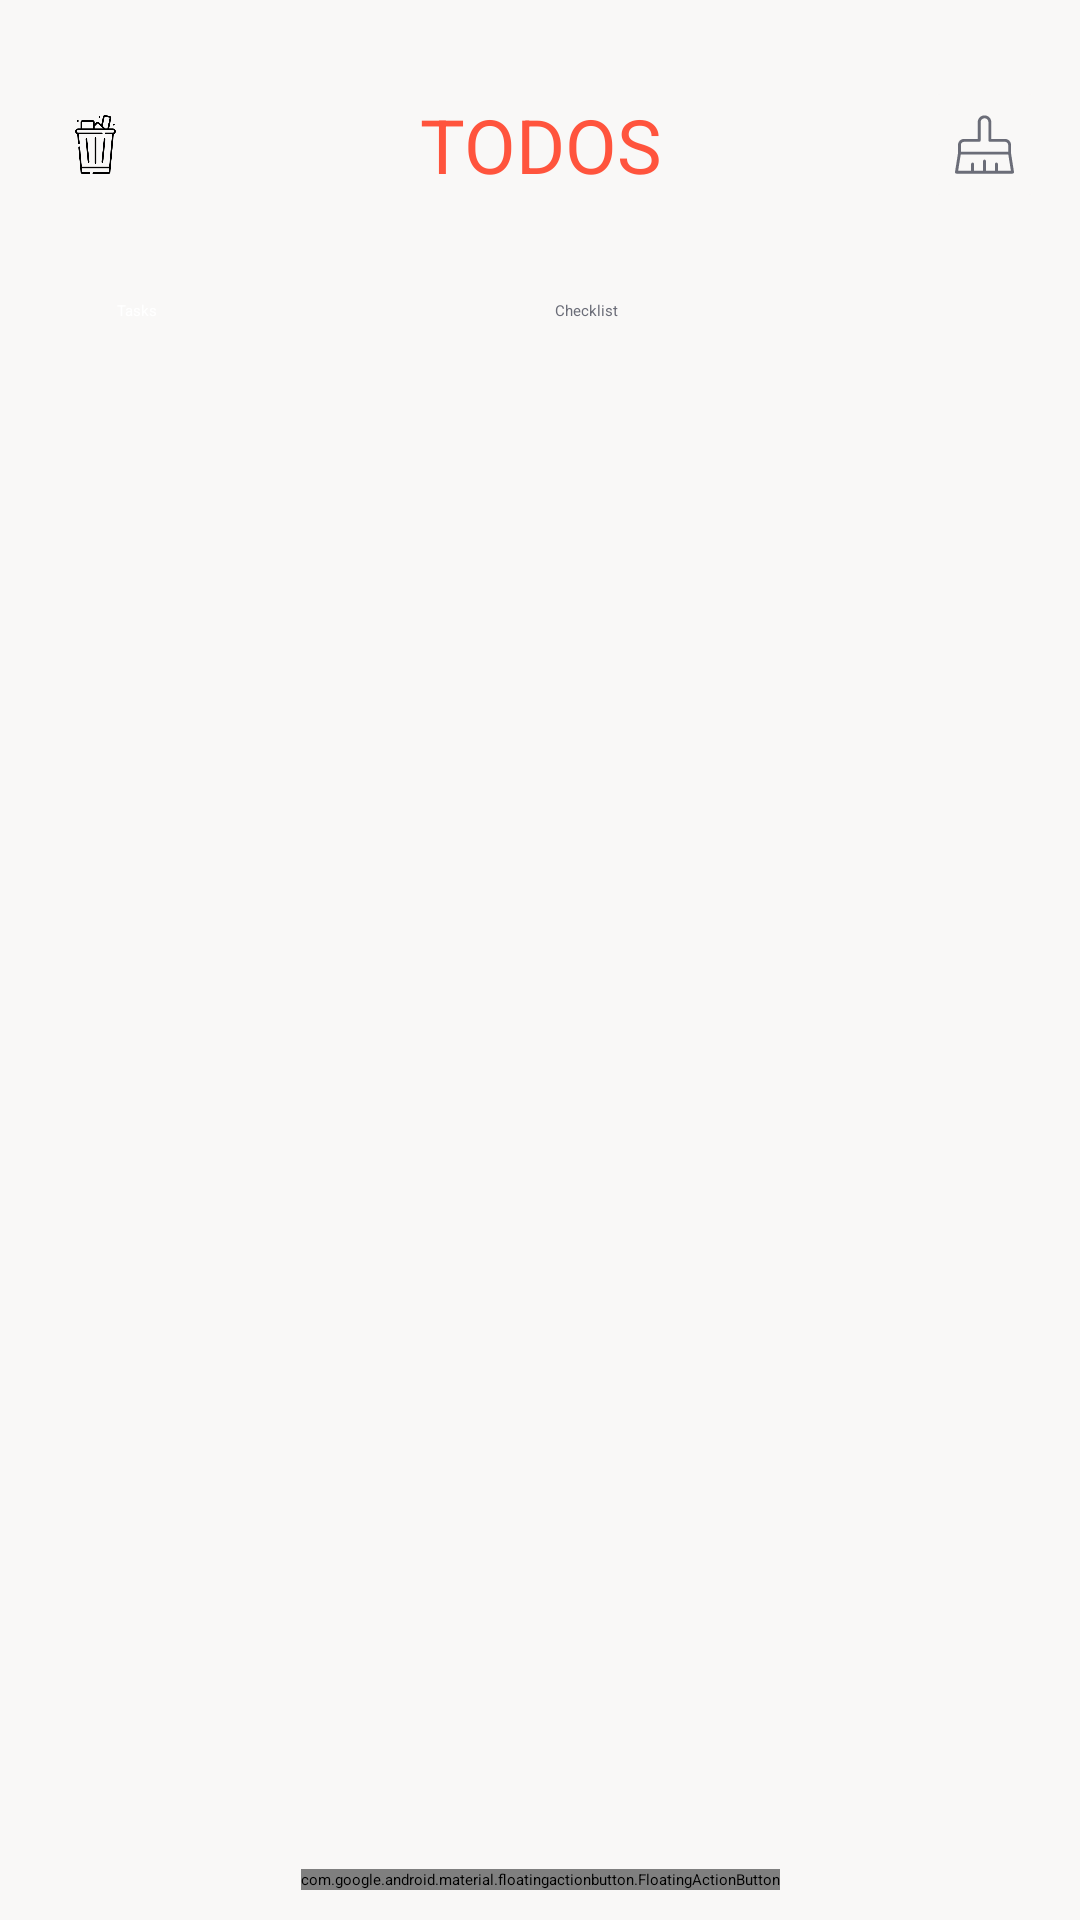

Locate icon controls on the screen. Image size 1080x1920, boxes as (x1, y1, x2, y2).
clean: (955, 115, 1014, 174)
recently delete: (75, 115, 116, 174)
